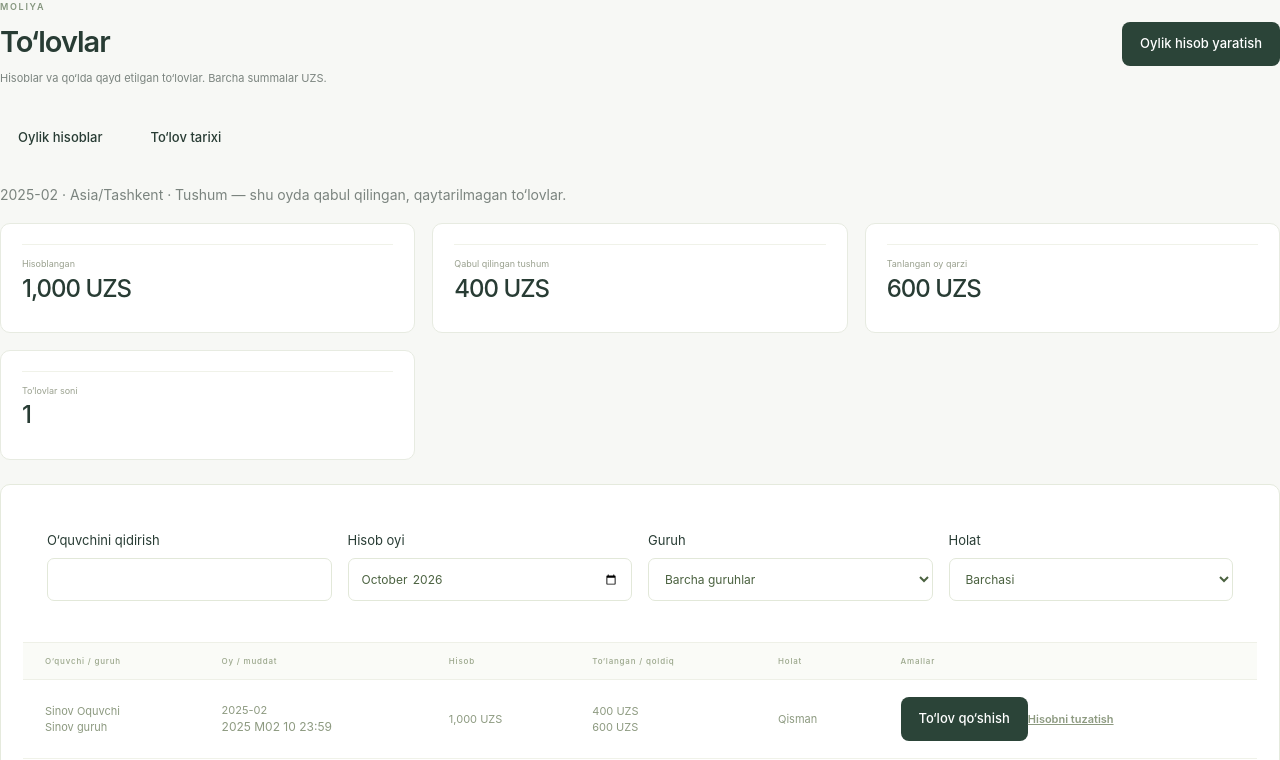
Test case: confirms bulk generation and shows loading/empty states
Click the button "Oylik hisob yaratish" at (1201, 44), box [1122,22,1279,66]
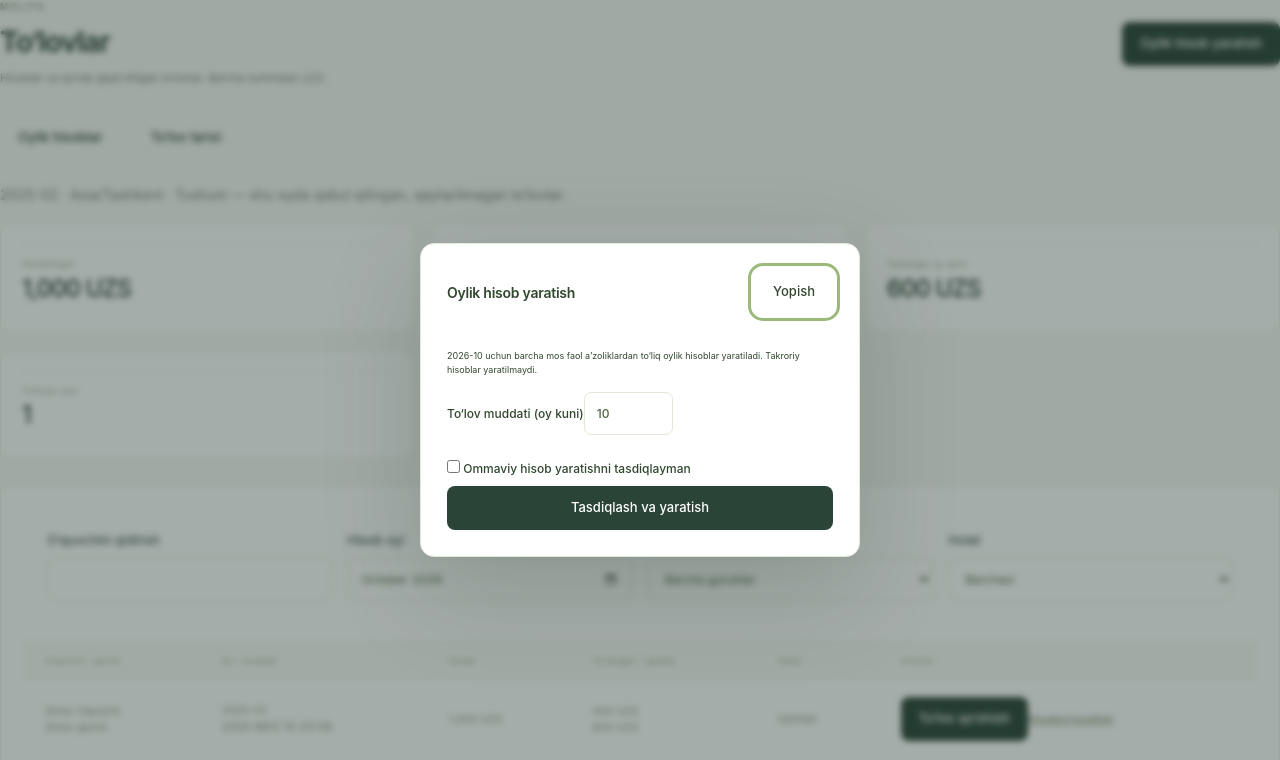
Click the checkbox at (454, 466), box [447,460,460,473]
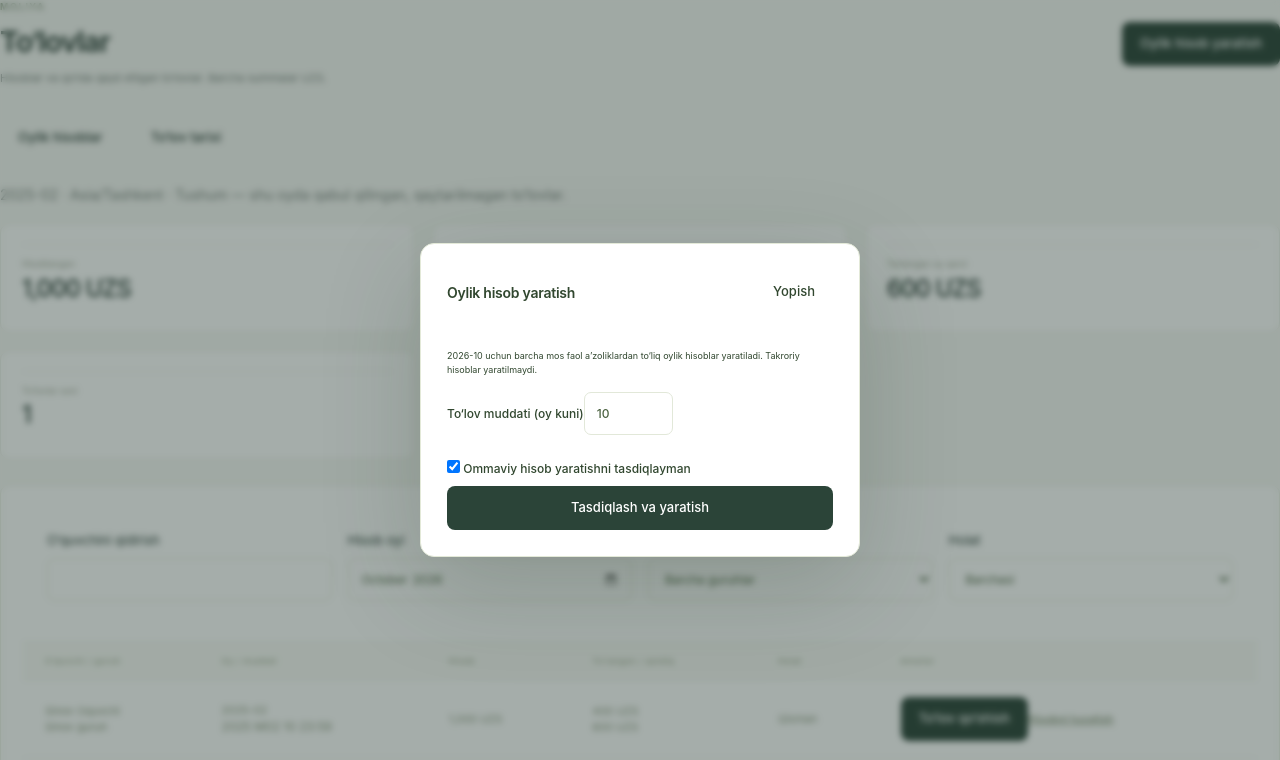
Click the button "Tasdiqlash va yaratish" at (640, 508), box [447,486,833,530]
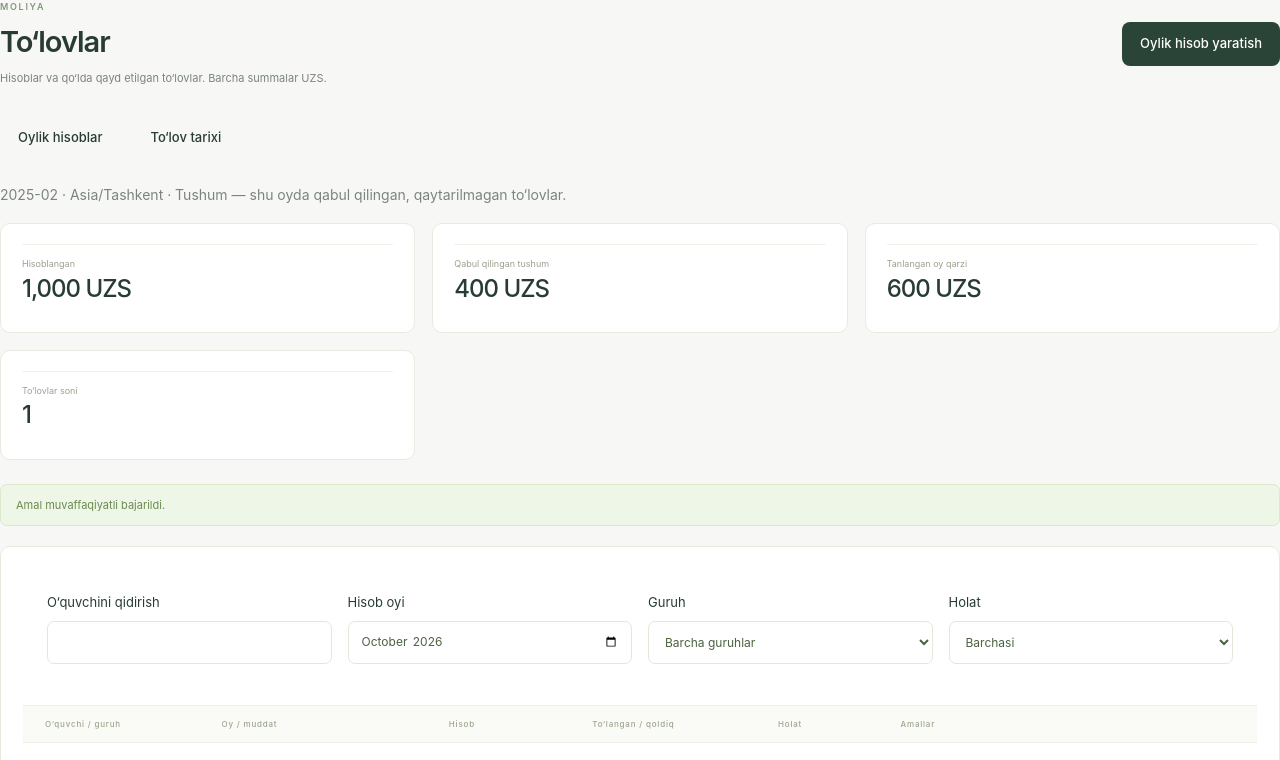
Now the text "Amal muvaffaqiyatli bajarildi." is shown, box [0,484,1279,526]
